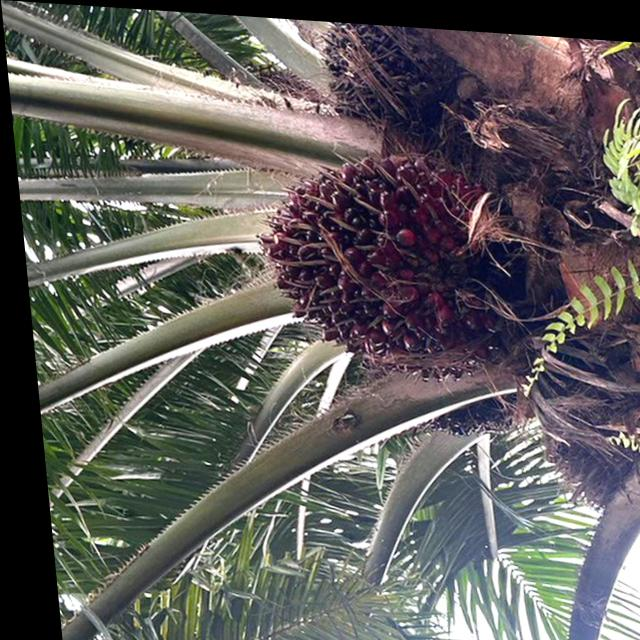ripe: (223, 109, 539, 412)
